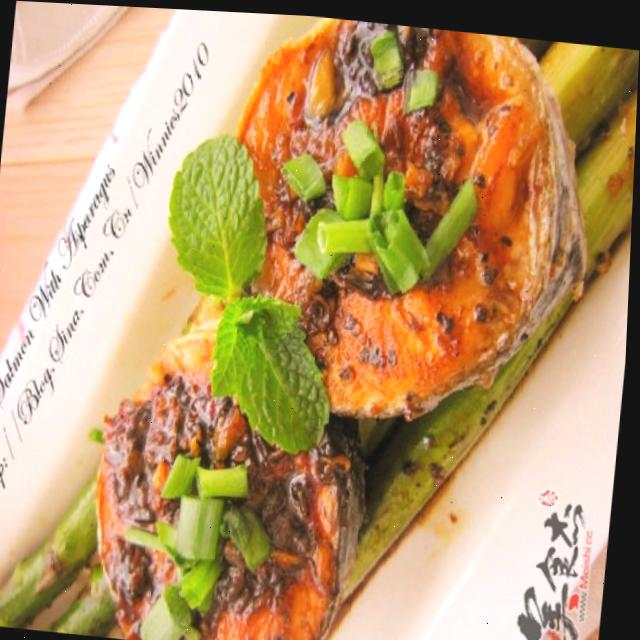熟制海鲜: (0, 4, 623, 640)
